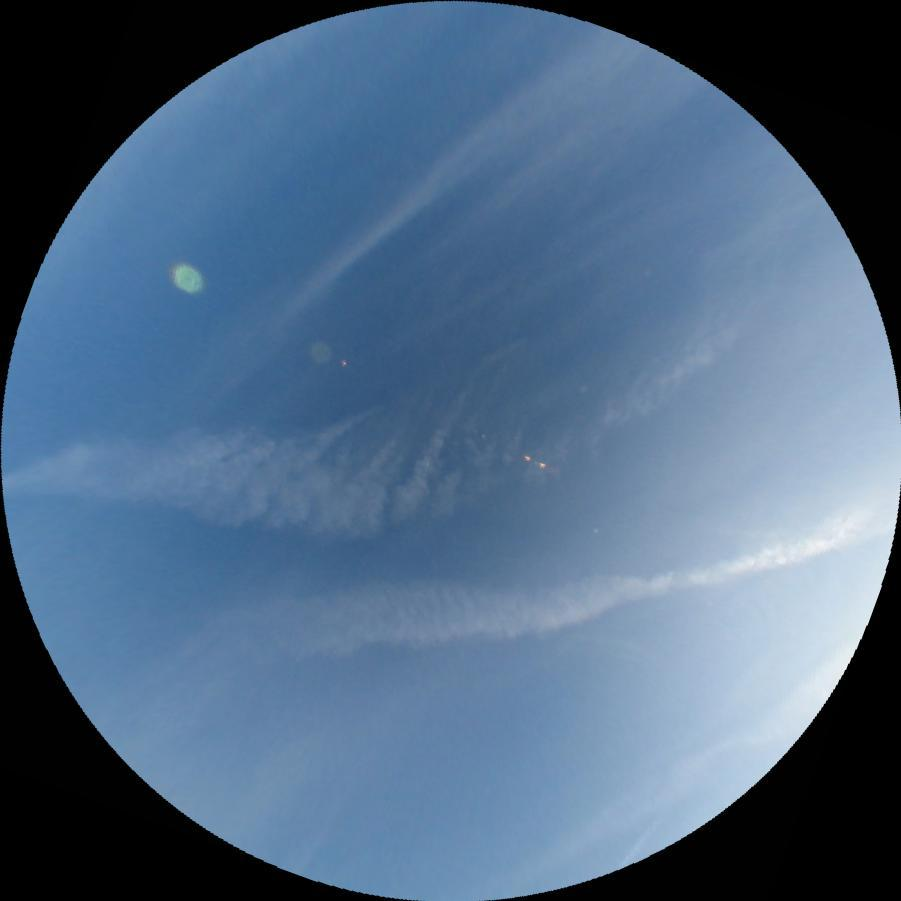contrail veryold: (0, 205, 843, 645), (199, 479, 899, 693)
contrail young: (617, 796, 676, 870)
